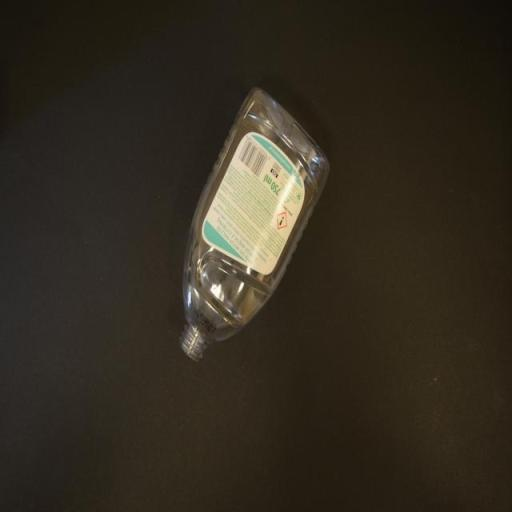plastic: (176, 90, 331, 361)
